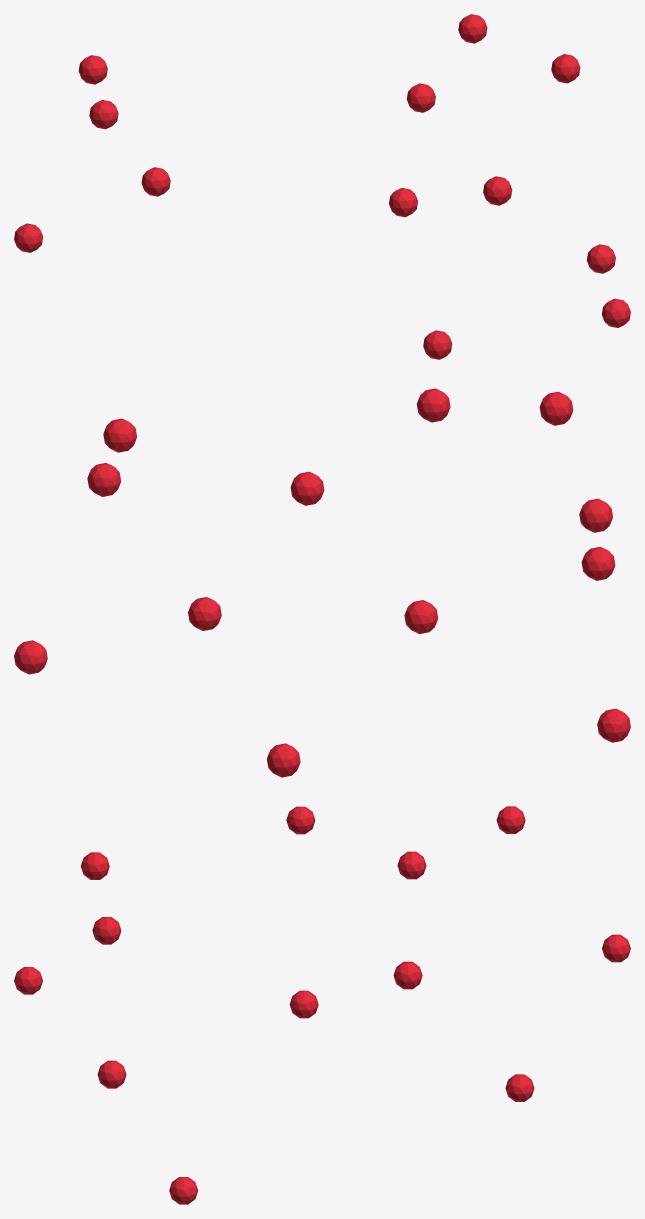
Rendered from berries.glb.
3 renders of one model, top to bottom at view 1: azimuth 30°, elevation 25°; view 2: azimuth 150°, elevation 25°; view 3: azimuth 270°, elevation 25°, orthographic. The views are drawn at different scales.
Visible parts, largest first — view 1: berry.002, berry.007, berry.009, berry.011, berry, berry.001, berry.003, berry.004, berry.010, berry.005, berry.006, berry.008; view 2: berry.005, berry.007, berry.002, berry.006, berry.008, berry.009, berry, berry.001, berry.010, berry.011, berry.004, berry.003; view 3: berry.001, berry.010, berry, berry.002, berry.004, berry.008, berry.003, berry.006, berry.005, berry.007, berry.011, berry.009.
Part boxes in pixels (x1=…): berry.002: x1=141, y1=167, x2=170, y2=196; berry.007: x1=78, y1=55, x2=107, y2=84; berry.009: x1=483, y1=176, x2=512, y2=205; berry.011: x1=423, y1=330, x2=452, y2=359; berry: x1=458, y1=14, x2=487, y2=43; berry.001: x1=14, y1=223, x2=42, y2=252; berry.003: x1=601, y1=298, x2=630, y2=327; berry.004: x1=89, y1=100, x2=118, y2=129; berry.010: x1=586, y1=244, x2=615, y2=273; berry.005: x1=406, y1=83, x2=435, y2=112; berry.006: x1=389, y1=188, x2=417, y2=217; berry.008: x1=551, y1=54, x2=580, y2=83; berry.005: x1=14, y1=640, x2=47, y2=674; berry.007: x1=404, y1=600, x2=438, y2=633; berry.002: x1=581, y1=546, x2=615, y2=580; berry.006: x1=539, y1=391, x2=573, y2=425; berry.008: x1=103, y1=418, x2=136, y2=452; berry.009: x1=416, y1=388, x2=450, y2=422; berry: x1=87, y1=463, x2=121, y2=496; berry.001: x1=597, y1=708, x2=630, y2=742; berry.010: x1=290, y1=471, x2=324, y2=505; berry.011: x1=579, y1=498, x2=612, y2=532; berry.004: x1=267, y1=743, x2=300, y2=777; berry.003: x1=188, y1=597, x2=221, y2=630; berry.001: x1=397, y1=851, x2=426, y2=879; berry.010: x1=97, y1=1060, x2=126, y2=1088; berry: x1=393, y1=961, x2=422, y2=989; berry.002: x1=286, y1=806, x2=315, y2=834; berry.004: x1=602, y1=934, x2=630, y2=962; berry.008: x1=289, y1=990, x2=318, y2=1018; berry.003: x1=169, y1=1177, x2=198, y2=1204; berry.006: x1=80, y1=852, x2=109, y2=879; berry.005: x1=505, y1=1074, x2=534, y2=1101; berry.007: x1=496, y1=806, x2=525, y2=833; berry.011: x1=14, y1=967, x2=42, y2=994; berry.009: x1=92, y1=917, x2=121, y2=944.
Size of the model in its own units: 1.59 by 0.7036 by 1.73.
